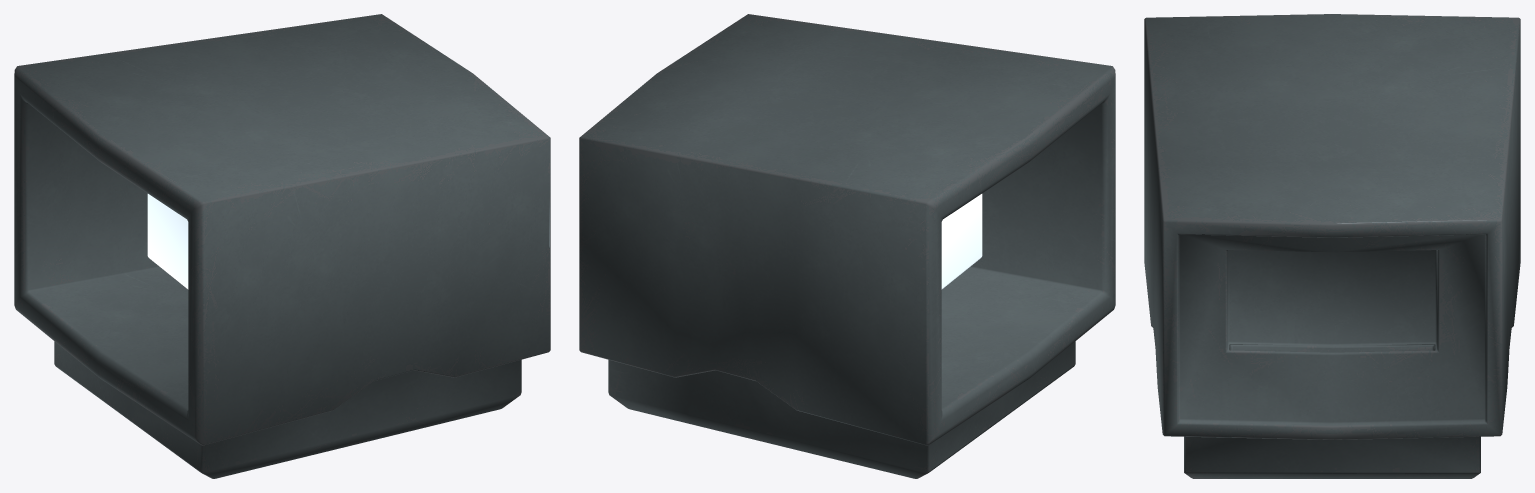
The model's file is lamp_02.gltf.
3 renders of one model, left to right at view 1: azimuth 30°, elevation 25°; view 2: azimuth 150°, elevation 25°; view 3: azimuth 270°, elevation 25°, orthographic.
Parts seen in each view (by area): view 1: lamp_02; view 2: lamp_02; view 3: lamp_02.
Boxes of the visible parts, left/top/right/bottom form: lamp_02: left=14, top=14, right=550, bottom=478; lamp_02: left=579, top=14, right=1115, bottom=478; lamp_02: left=1144, top=14, right=1520, bottom=478.
Size of the model in its own units: 0.3106 by 0.2385 by 0.2676.
1 material, 1 textured.
